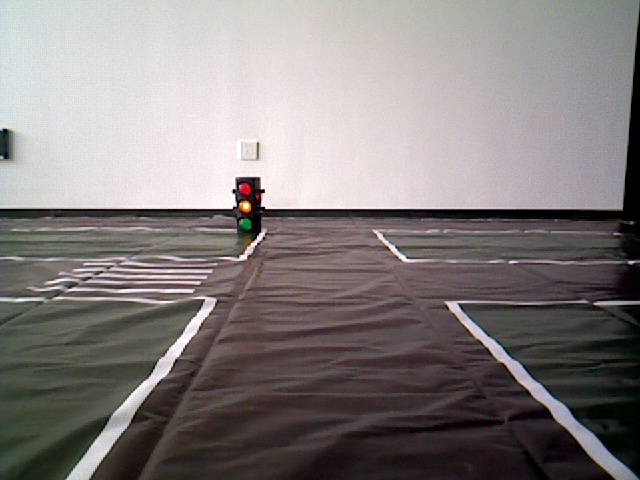yellow: (234, 172, 266, 237)
